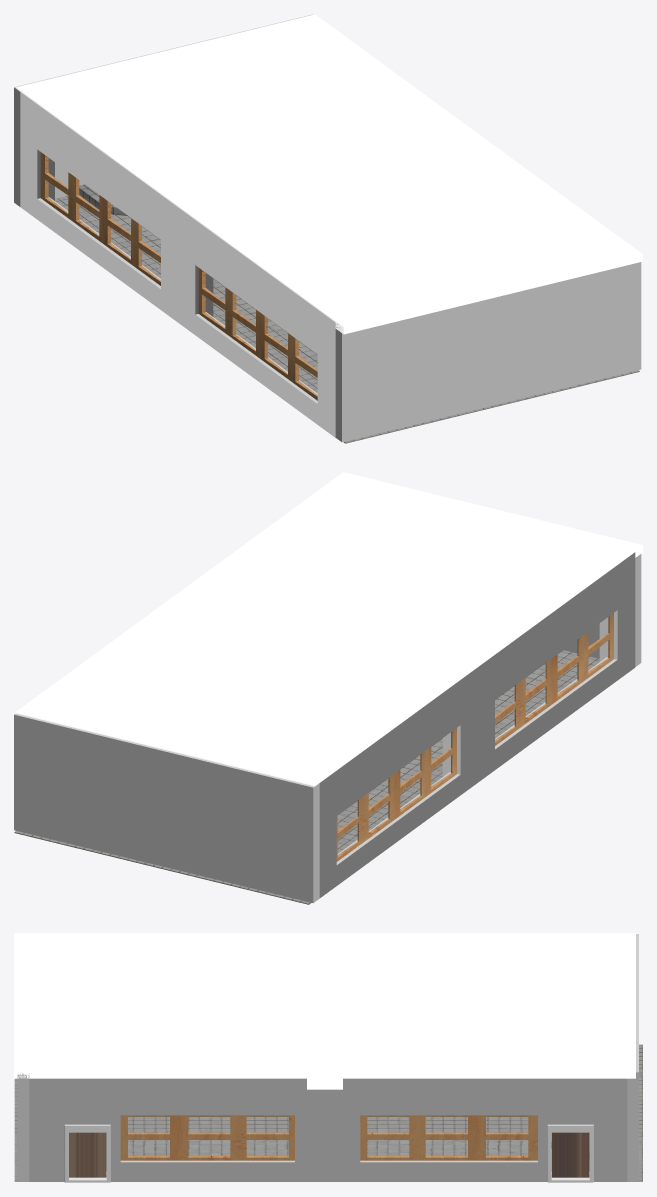
The model's file is 001_kebbpo.glb.
3 renders of one model, top to bottom at view 1: azimuth 30°, elevation 25°; view 2: azimuth 150°, elevation 25°; view 3: azimuth 270°, elevation 25°, orthographic. The views are drawn at different scales.
Parts seen in each view (by area): view 1: New_Node; view 2: New_Node; view 3: New_Node.
Part boxes in pixels (x1,y1,x2,y2): New_Node: (14, 14, 642, 443); New_Node: (14, 472, 642, 904); New_Node: (14, 933, 642, 1182).
Size of what is drawn, in the model's own units: 41.23 by 15.32 by 78.58.
8 materials, 4 textured.
